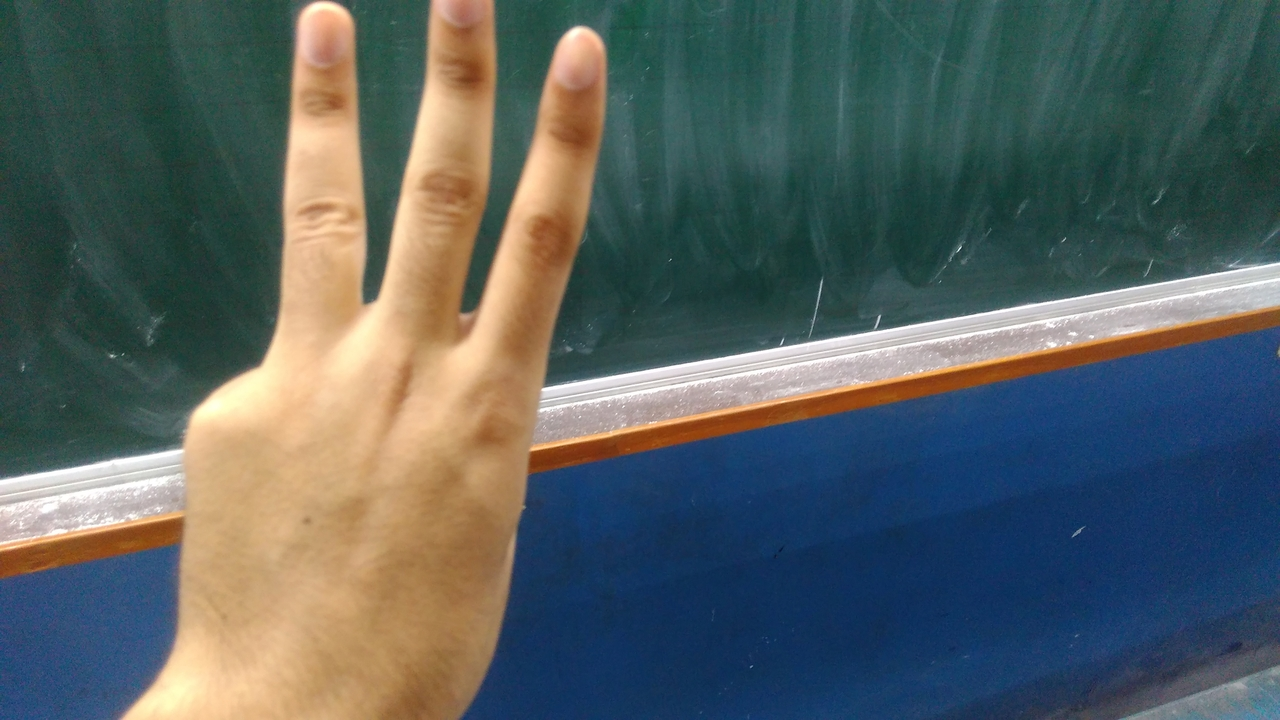fingertip: (546, 20, 608, 88), (288, 0, 350, 58), (426, 0, 492, 54)
